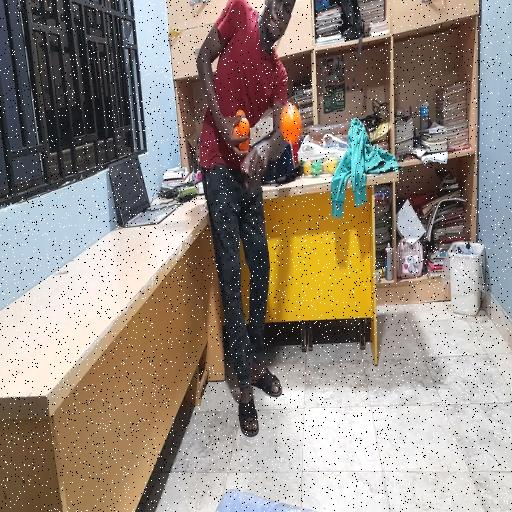plastic-ball: (278, 100, 302, 148)
